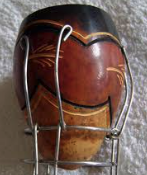calabaza: (15, 3, 135, 175)
mate: (13, 3, 136, 175)
